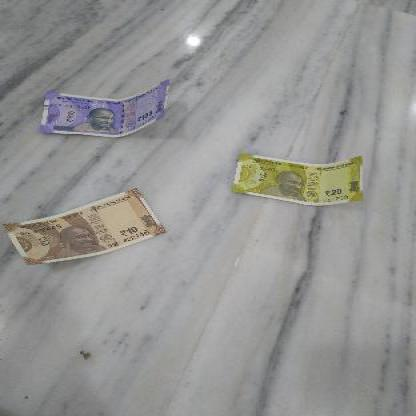New100Front: (44, 82, 164, 137)
New10Front: (0, 187, 166, 269)
New20Front: (232, 149, 369, 203)
